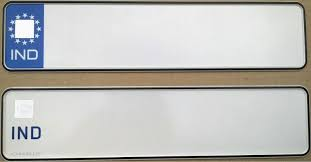inlp: (1, 85, 311, 160), (1, 1, 309, 75)
